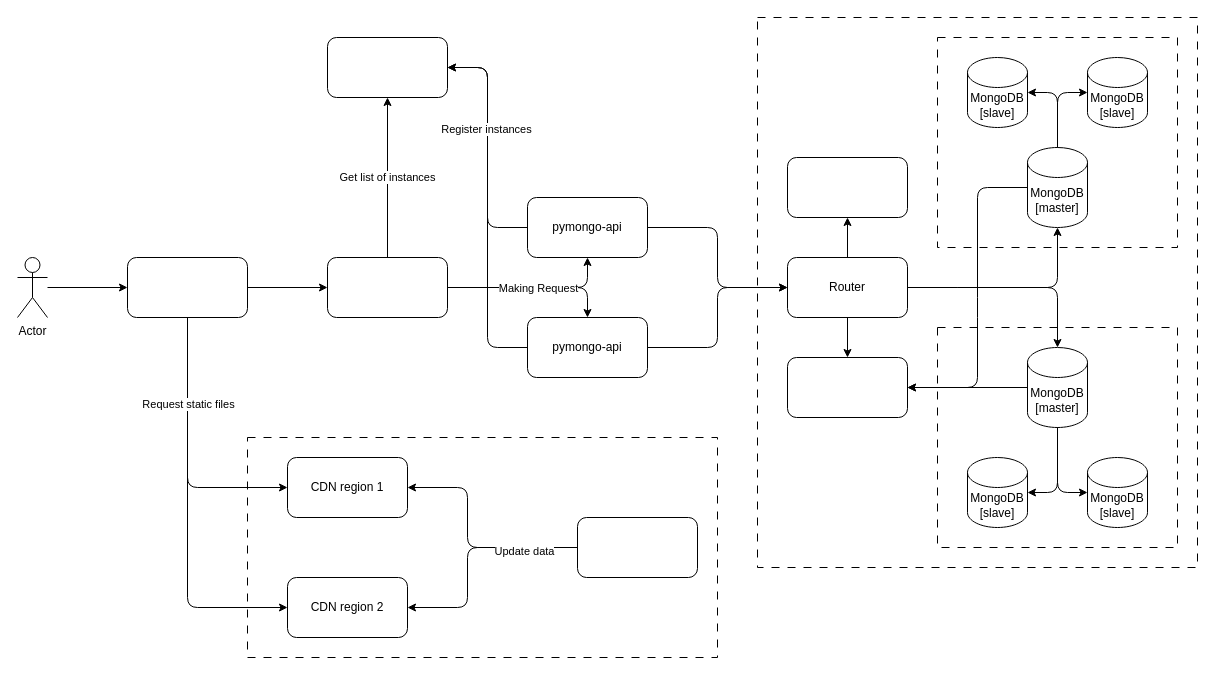
The diagram is 1215 pixels wide and 675 high, and some of its shapes have lost their labels. Here are the shapes that lost their labels. From the top down, the centre of each, then its label:
At point 387,67: "Consul".
At point 847,187: "Redis".
At point 187,287: "Сайт".
At point 387,287: "API Gateway".
At point 847,387: "Config Server".
At point 637,547: "CDN main server".
